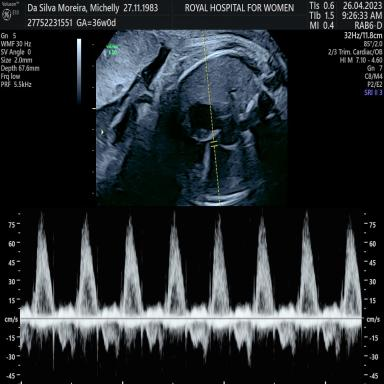Ultrasound-Waves: (24, 208, 360, 384)
